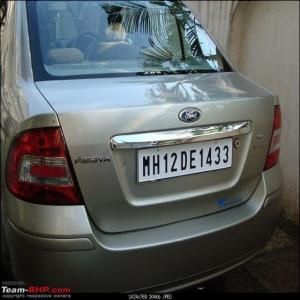Plate: (138, 138, 233, 183)
